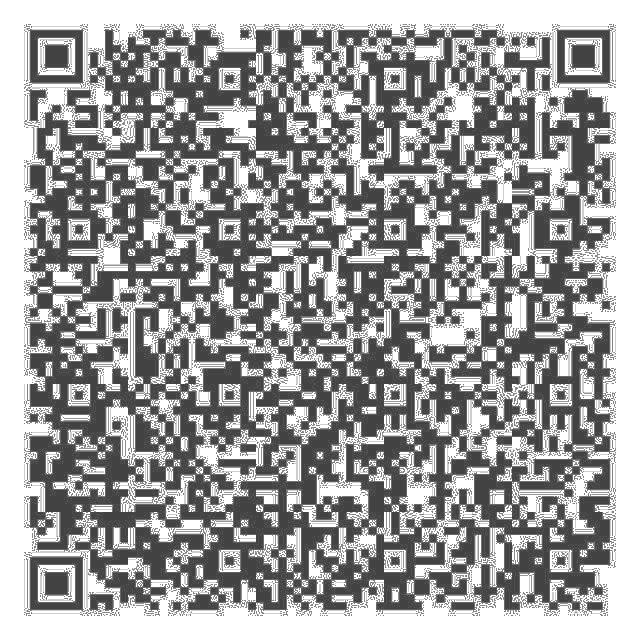qr_code: (22, 19, 622, 623)
